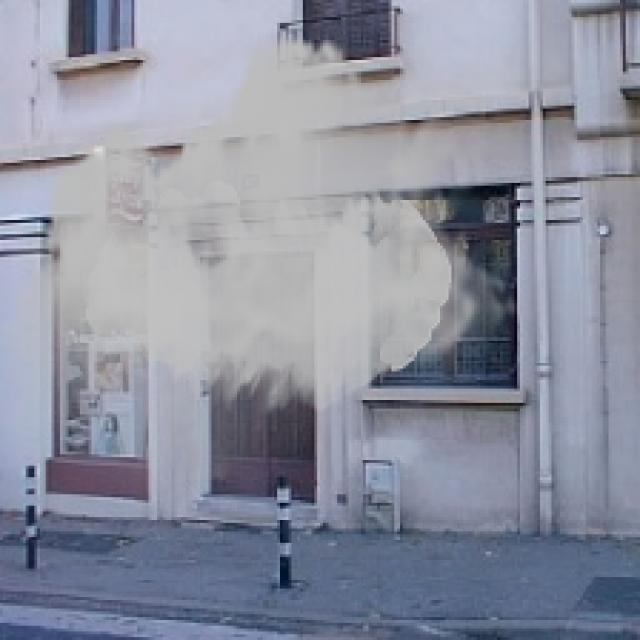smoke: (3, 14, 520, 569)
